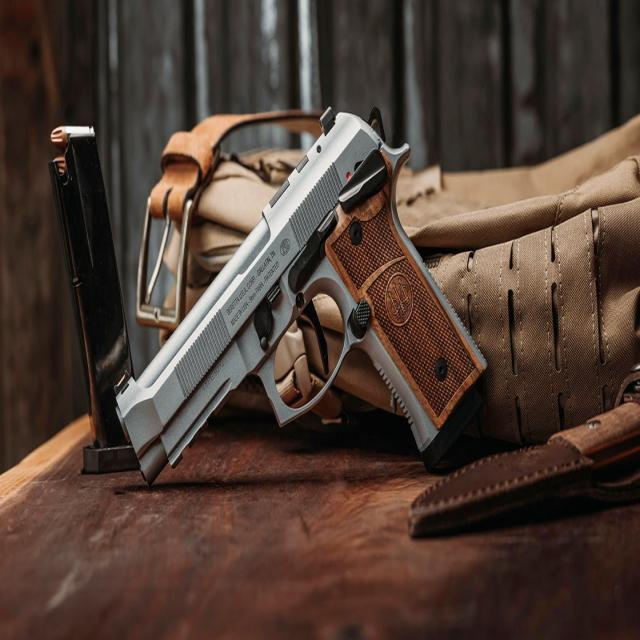Gun: (70, 85, 498, 497)
